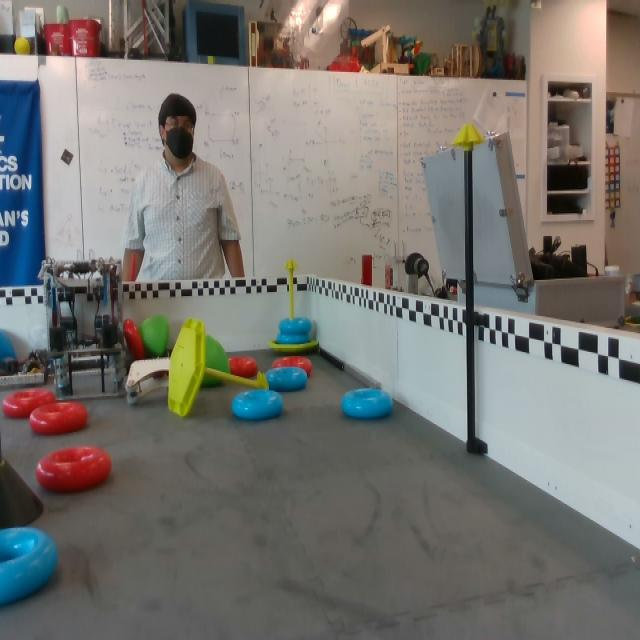Blue-Ring: (0, 527, 60, 609), (339, 385, 393, 423), (230, 387, 284, 419), (268, 366, 307, 392), (279, 318, 314, 332), (275, 333, 310, 344)
Mobile-Goal: (169, 319, 269, 419), (267, 259, 318, 353)
Red-Ring: (34, 447, 112, 496), (29, 401, 89, 436), (2, 388, 56, 419), (124, 318, 145, 360), (271, 357, 314, 375), (229, 356, 257, 377)
Yellow-Stake-Head: (452, 123, 485, 147), (284, 258, 298, 270)
